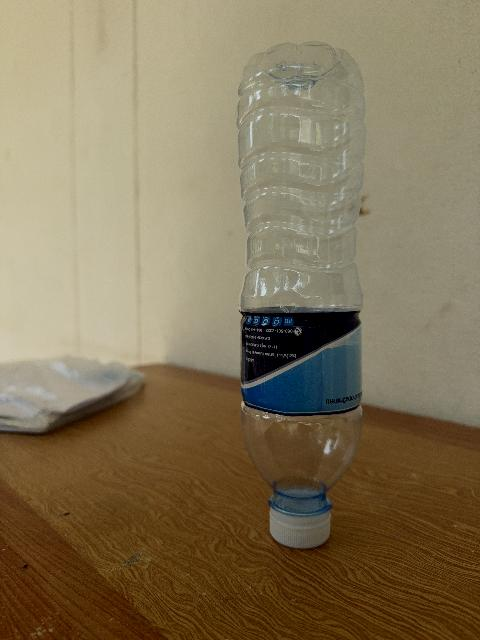bottle: (238, 43, 364, 547)
